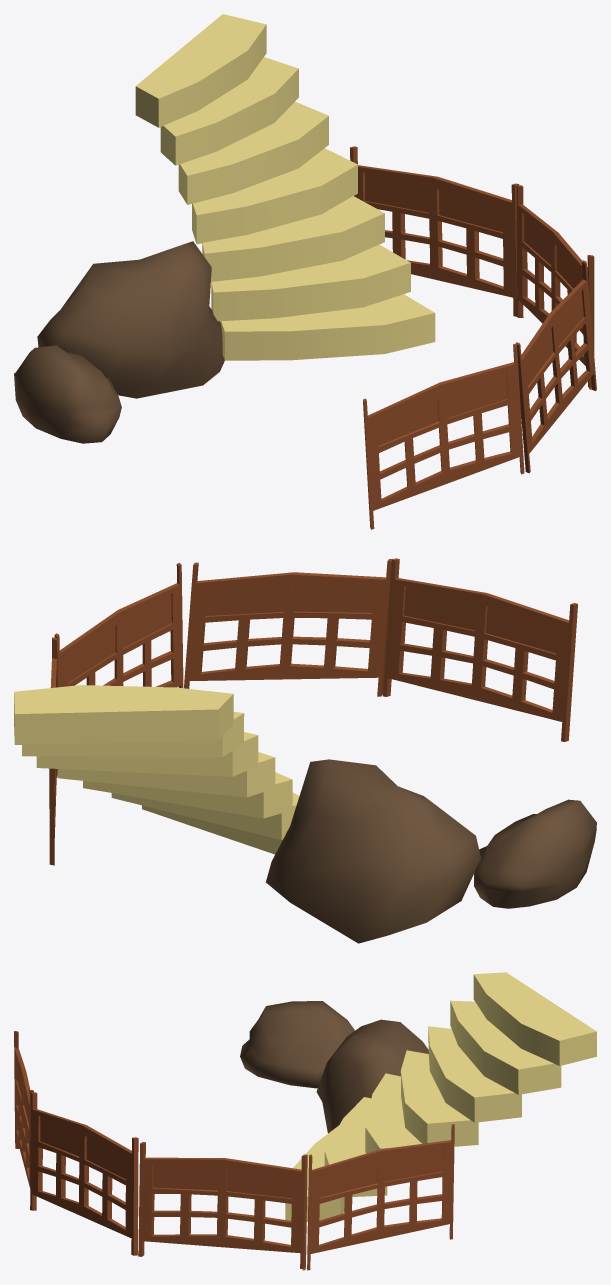
The model's file is tizi.FBX.
3 renders of one model, top to bottom at view 1: azimuth 30°, elevation 25°; view 2: azimuth 150°, elevation 25°; view 3: azimuth 270°, elevation 25°, orthographic. The views are drawn at different scales.
Parts seen in each view (by area): view 1: 对象001, 对象002, 对象006, 对象007; view 2: 对象002, 对象001, 对象006, 对象007; view 3: 对象002, 对象001, 对象007, 对象006.
Part boxes in pixels (left/top/right/bottom): 对象001: left=135, top=14, right=435, bottom=360; 对象002: left=350, top=146, right=596, bottom=529; 对象006: left=37, top=241, right=224, bottom=398; 对象007: left=14, top=345, right=121, bottom=443; 对象002: left=49, top=558, right=577, bottom=865; 对象001: left=14, top=685, right=299, bottom=854; 对象006: left=266, top=759, right=480, bottom=943; 对象007: left=474, top=799, right=596, bottom=908; 对象002: left=14, top=1031, right=454, bottom=1270; 对象001: left=285, top=972, right=596, bottom=1221; 对象007: left=240, top=1001, right=354, bottom=1088; 对象006: left=316, top=1019, right=428, bottom=1133.
Size of the model in its own units: 4.18 by 1.84 by 4.9.
